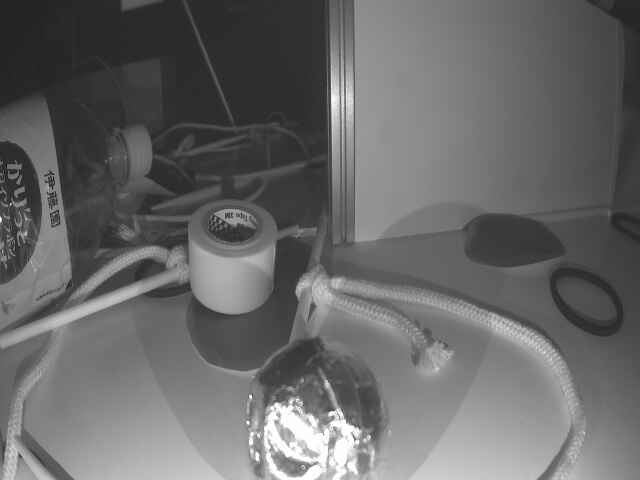Live: (245, 335, 379, 480)
